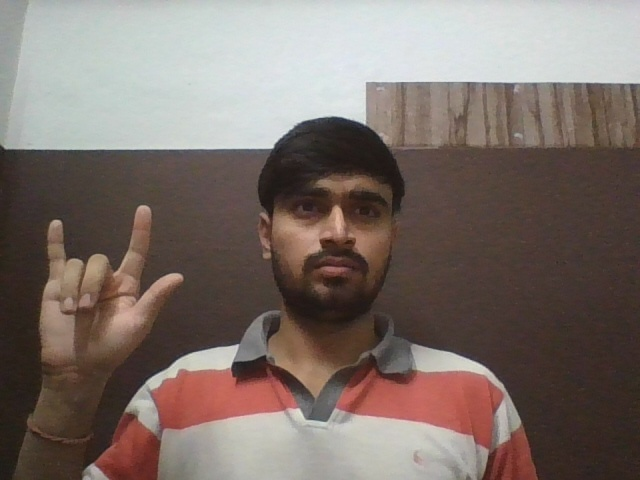I Love You: (38, 203, 184, 371)
